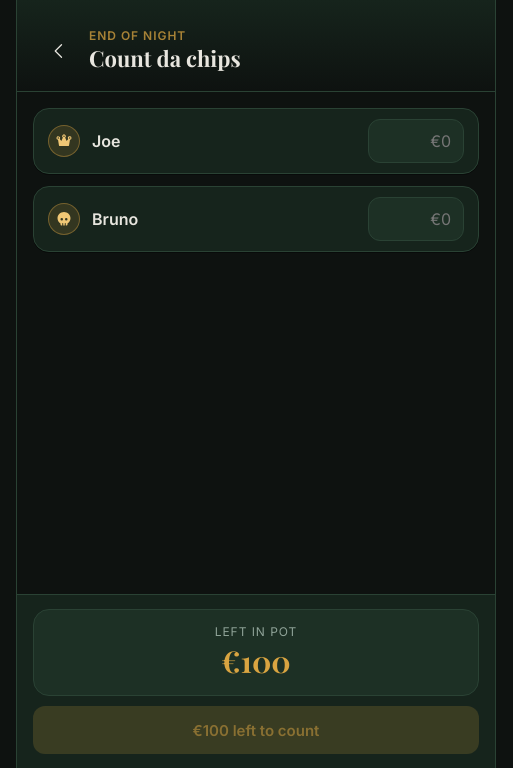
Test: CountView › shows the red danger state and a disabled split button when over-counted
The image size is (513, 768).
In the field named "Joe counted amount": x=416, y=141 [368,119,464,163], type "60"
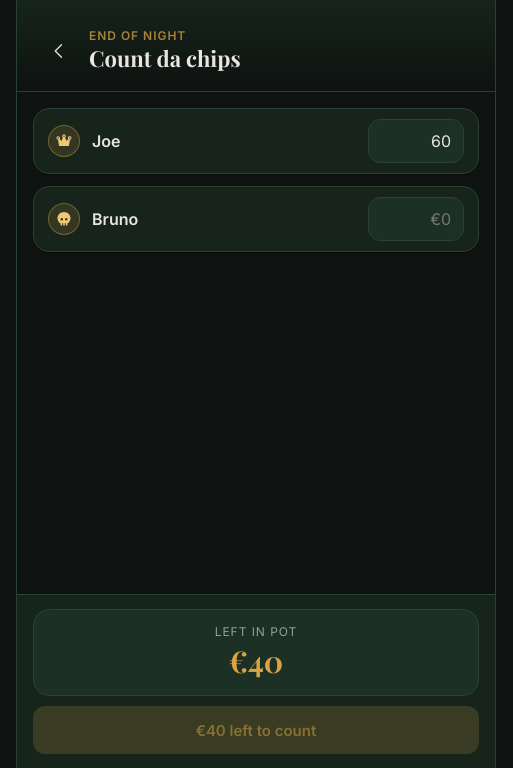
In the field named "Bruno counted amount": x=416, y=219 [368,197,464,241], type "55"
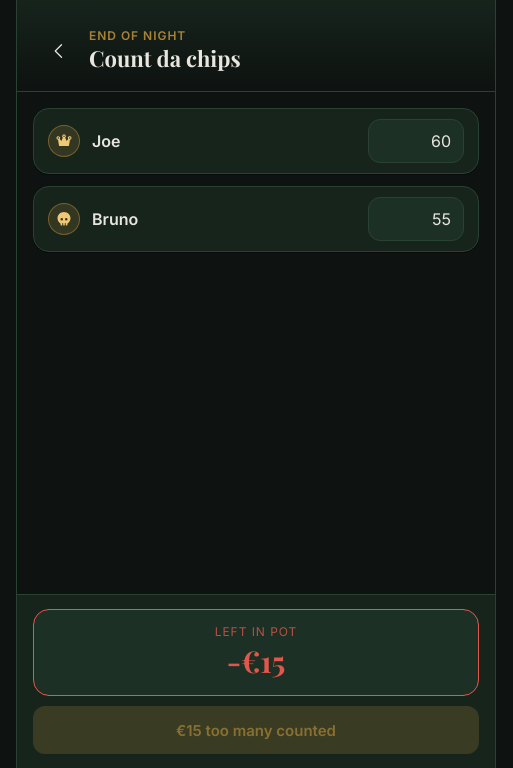
Check: the button "€15 too many counted" is disabled, box [33,706,479,754]
Check: the text "-€15" is shown, box [227,641,285,681]
